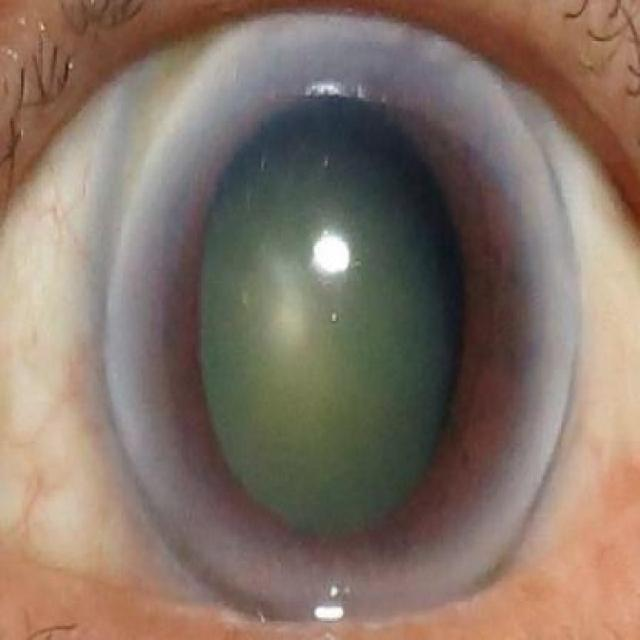Cataract: (104, 12, 574, 639)
